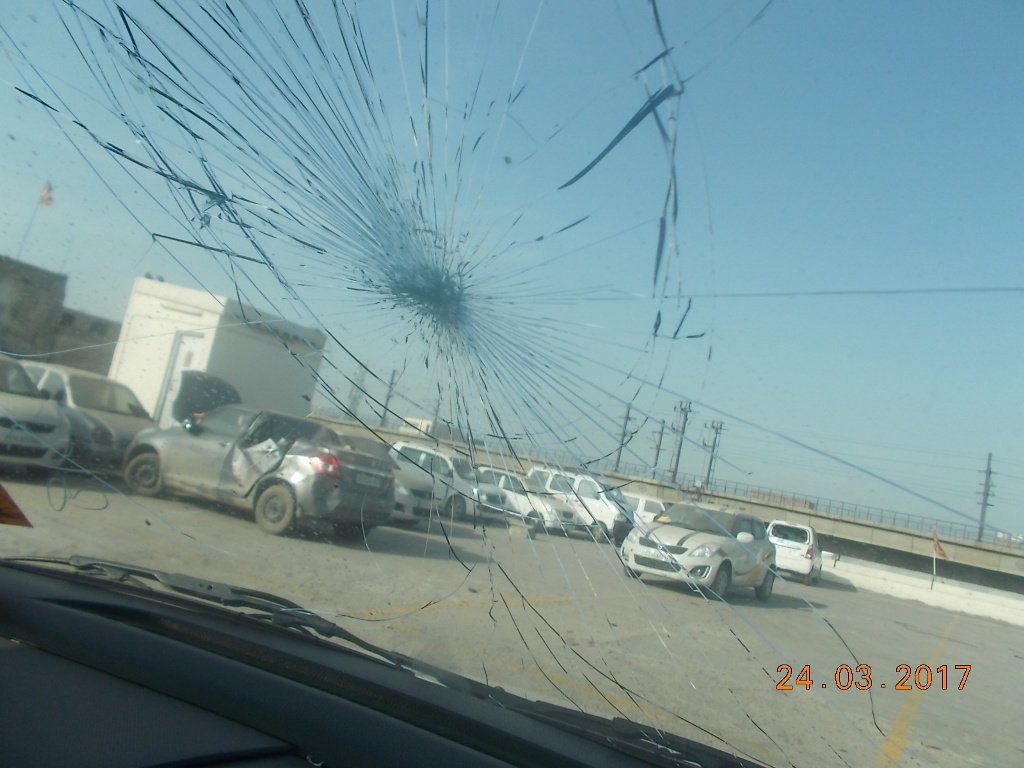Shatter: (173, 30, 615, 485)
